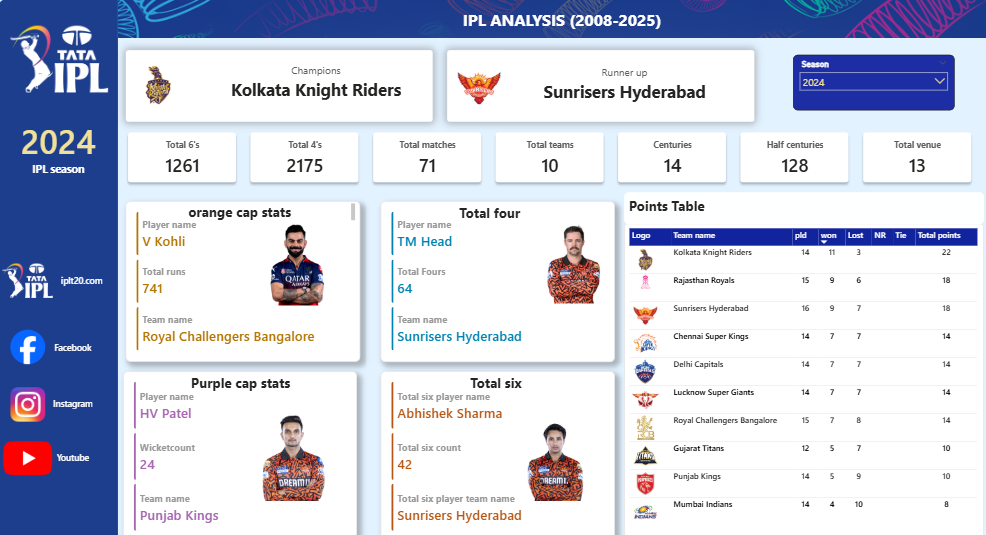

The page's visual inventory and layout, read from the dashboard file:
{"tool":"powerbi","page":{"name":"Page 1","canvas":[1990,1100],"ordinal":0},"visuals":[{"type":"cardVisual","fields":{"Data":["ipl_matches_data.Purple Cap Holder","ipl_matches_data.Purple cap Wicketcount","ipl_matches_data.Purple Cap team"]},"box":[251.2,751.2,468.3,343.9],"z":0},{"type":"image","box":[240.4,0,1746.2,90.4],"z":1000},{"type":"shape","box":[0,5.8,240,1086.5],"z":2000},{"type":"textbox","box":[253.8,19.2,1746.2,71.2],"z":3000},{"type":"slicer","fields":{"Values":["ipl_matches_data.season"]},"box":[1590.4,117.3,323.1,111.5],"z":4000},{"type":"shape","box":[255,107.5,615,145],"z":5000},{"type":"cardVisual","fields":{"Data":["ipl_matches_data.Season winner"]},"box":[374.2,90.3,522.6,162.9],"z":6000},{"type":"cardVisual","fields":{"Data":["ipl_matches_data.Season winner logo"]},"box":[254.8,74.2,130.6,203.2],"z":7000},{"type":"shape","box":[896.8,108.1,616.1,145.2],"z":8000},{"type":"cardVisual","fields":{"Data":["ipl_matches_data.Runner up"]},"box":[1000,96.8,506.5,156.5],"z":9000},{"type":"cardVisual","fields":{"Data":["ipl_matches_data.Runner up logo"]},"box":[896.8,90.3,130.6,187.1],"z":10000},{"type":"cardVisual","fields":{"Data":["ipl_matches_data.Total 6's","ipl_matches_data.Total 4's","ipl_matches_data.Total matches","ipl_matches_data.total venue","ipl_matches_data.Centuries","ipl_matches_data.Half centuries","ipl_matches_data.Total venue"]},"box":[240,253.3,1731.1,140],"z":11000},{"type":"cardVisual","fields":{"Data":["ipl_matches_data.Orange Cap Holder","ipl_matches_data.Orange cap runs","ipl_matches_data.Orange cap team"]},"box":[254.3,410.9,469.6,321.7],"z":12000},{"type":"textbox","box":[255.6,411.1,464.4,44.4],"z":13000},{"type":"cardVisual","fields":{"Data":["ipl_matches_data.Orange cap image"]},"box":[431.1,264.4,333.3,371.1],"z":14000},{"type":"cardVisual","fields":{"Data":["ipl_matches_data.Total Fours player name","ipl_matches_data.Total Fours count","ipl_matches_data.Total four player team name"]},"box":[764.4,411.1,468.9,322.2],"z":15000},{"type":"cardVisual","fields":{"Data":["ipl_matches_data.Total six player name","ipl_matches_data.Total six count","ipl_matches_data.Total six player team name"]},"box":[764.4,751.1,468.9,344.4],"z":16000},{"type":"cardVisual","fields":{"Data":["ipl_matches_data.Total Fours player image"]},"box":[984.4,275.6,335.6,357.8],"z":17000},{"type":"textbox","box":[842.2,411.1,282.2,57.8],"z":18000},{"type":"cardVisual","fields":{"Data":["ipl_matches_data.Total six player image"]},"box":[946.7,668.9,335.6,357.8],"z":19000},{"type":"textbox","box":[744.4,751.1,502.2,55.6],"z":20000},{"type":"tableEx","fields":{"Values":["teams_data.image_url","teams_data.team_name","ipl_matches_data.Matches played","ipl_matches_data.Matches won","ipl_matches_data.Matches lost","ipl_matches_data.No result match","ipl_matches_data.Tie played","ipl_matches_data.Total points"]},"box":[1252.4,454.8,719,635.7],"z":21000},{"type":"textbox","box":[1252.4,392.9,719,64.3],"z":22000},{"type":"image","box":[23.8,21.4,195.2,207.1],"z":23000},{"type":"card","fields":{"Values":["ipl_matches_data.IPL season"]},"box":[11.9,209.5,216.7,183.3],"z":24000},{"type":"actionButton","box":[61.9,538.1,209.5,64.3],"z":25000},{"type":"image","box":[0,535.7,119,69],"z":26000},{"type":"actionButton","box":[45.2,783.3,209.5,64.3],"z":27000},{"type":"actionButton","box":[45.2,669,209.5,64.3],"z":28000},{"type":"actionButton","box":[45.2,890.5,209.5,64.3],"z":29000},{"type":"image","box":[0,666.7,119,69],"z":30000},{"type":"image","box":[0,783.3,119,69],"z":31000},{"type":"image","box":[0,890.5,119,69],"z":32000},{"type":"cardVisual","fields":{"Data":["ipl_matches_data.Purple Capimage"]},"box":[431.7,634.1,312.2,392.7],"z":33000},{"type":"textbox","box":[297.6,748.8,375.6,58.5],"z":34000}]}

Visuals, with their boxes in screenshot pixels (x1, y1, x2, y2), scaled from the page's 1990x1100 canvas onto the 986x535 screenshot:
cardVisual - ipl_matches_data.Purple Cap Holder x ipl_matches_data.Purple cap Wicketcount: {"x1": 124, "y1": 365, "x2": 356, "y2": 533}
image: {"x1": 119, "y1": 0, "x2": 984, "y2": 44}
shape: {"x1": 0, "y1": 3, "x2": 119, "y2": 531}
textbox: {"x1": 126, "y1": 9, "x2": 985, "y2": 44}
slicer - ipl_matches_data.season: {"x1": 788, "y1": 57, "x2": 948, "y2": 111}
shape: {"x1": 126, "y1": 52, "x2": 431, "y2": 123}
cardVisual - ipl_matches_data.Season winner: {"x1": 185, "y1": 44, "x2": 444, "y2": 123}
cardVisual - ipl_matches_data.Season winner logo: {"x1": 126, "y1": 36, "x2": 191, "y2": 135}
shape: {"x1": 444, "y1": 53, "x2": 750, "y2": 123}
cardVisual - ipl_matches_data.Runner up: {"x1": 495, "y1": 47, "x2": 746, "y2": 123}
cardVisual - ipl_matches_data.Runner up logo: {"x1": 444, "y1": 44, "x2": 509, "y2": 135}
cardVisual - ipl_matches_data.Total 6's x ipl_matches_data.Total 4's: {"x1": 119, "y1": 123, "x2": 977, "y2": 191}
cardVisual - ipl_matches_data.Orange Cap Holder x ipl_matches_data.Orange cap runs: {"x1": 126, "y1": 200, "x2": 359, "y2": 356}
textbox: {"x1": 127, "y1": 200, "x2": 357, "y2": 222}
cardVisual - ipl_matches_data.Orange cap image: {"x1": 214, "y1": 129, "x2": 379, "y2": 309}
cardVisual - ipl_matches_data.Total Fours player name x ipl_matches_data.Total Fours count: {"x1": 379, "y1": 200, "x2": 611, "y2": 357}
cardVisual - ipl_matches_data.Total six player name x ipl_matches_data.Total six count: {"x1": 379, "y1": 365, "x2": 611, "y2": 533}
cardVisual - ipl_matches_data.Total Fours player image: {"x1": 488, "y1": 134, "x2": 654, "y2": 308}
textbox: {"x1": 417, "y1": 200, "x2": 557, "y2": 228}
cardVisual - ipl_matches_data.Total six player image: {"x1": 469, "y1": 325, "x2": 635, "y2": 499}
textbox: {"x1": 369, "y1": 365, "x2": 618, "y2": 392}
tableEx - teams_data.image_url x teams_data.team_name: {"x1": 621, "y1": 221, "x2": 977, "y2": 530}
textbox: {"x1": 621, "y1": 191, "x2": 977, "y2": 222}
image: {"x1": 12, "y1": 10, "x2": 109, "y2": 111}
card - ipl_matches_data.IPL season: {"x1": 6, "y1": 102, "x2": 113, "y2": 191}
actionButton: {"x1": 31, "y1": 262, "x2": 134, "y2": 293}
image: {"x1": 0, "y1": 261, "x2": 59, "y2": 294}
actionButton: {"x1": 22, "y1": 381, "x2": 126, "y2": 412}
actionButton: {"x1": 22, "y1": 325, "x2": 126, "y2": 357}
actionButton: {"x1": 22, "y1": 433, "x2": 126, "y2": 464}
image: {"x1": 0, "y1": 324, "x2": 59, "y2": 358}
image: {"x1": 0, "y1": 381, "x2": 59, "y2": 415}
image: {"x1": 0, "y1": 433, "x2": 59, "y2": 467}
cardVisual - ipl_matches_data.Purple Capimage: {"x1": 214, "y1": 308, "x2": 369, "y2": 499}
textbox: {"x1": 147, "y1": 364, "x2": 334, "y2": 393}
